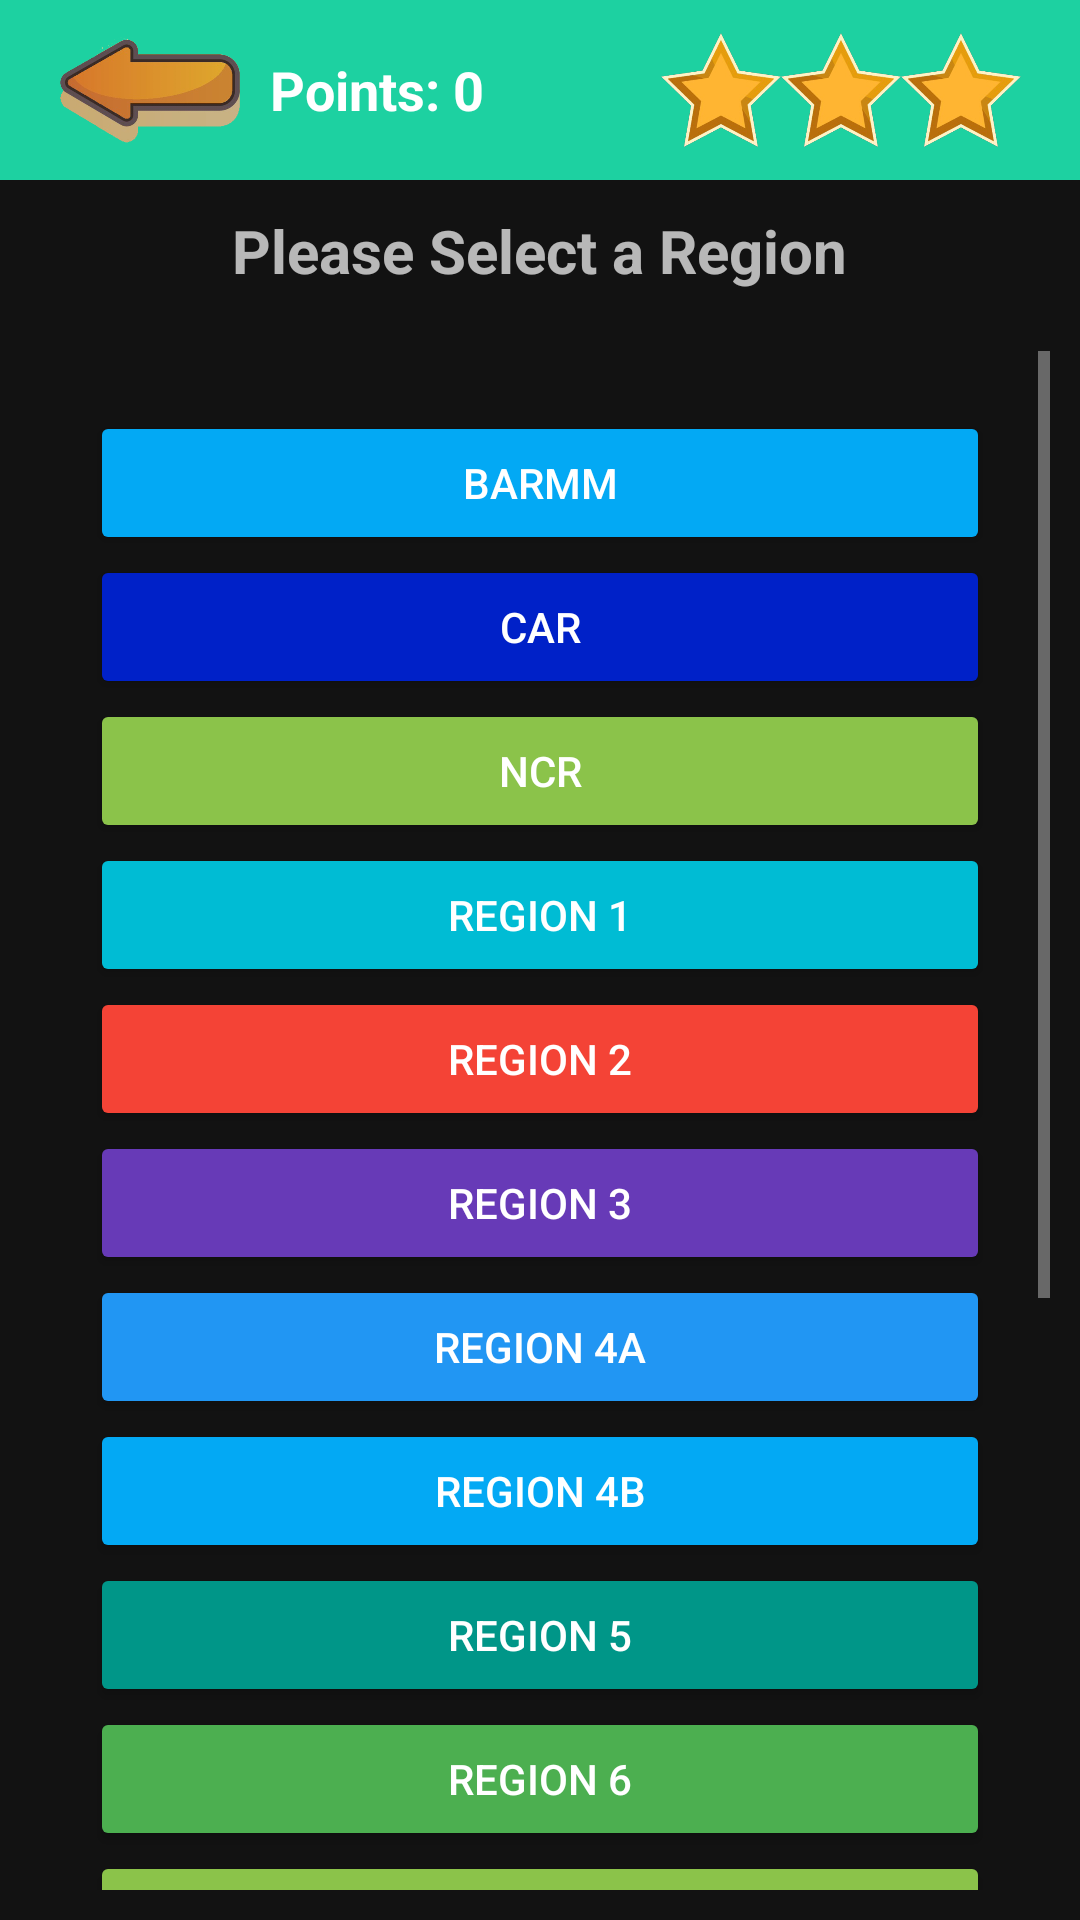

Locate icon controls on the screen. Image size 1080px×1920px, boxes as (x1, y1, x2, y2).
quiz back: (60, 39, 240, 143)
quiz life: (661, 33, 781, 147), (781, 33, 901, 147), (901, 33, 1021, 147)
